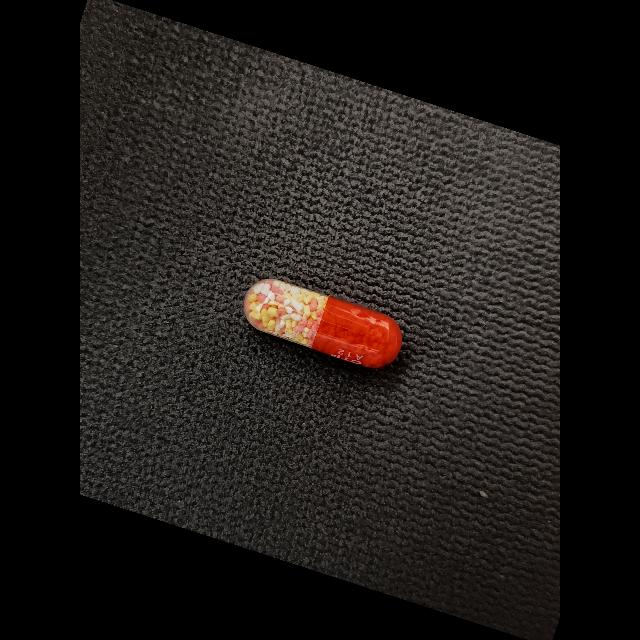Intact Capsule: (243, 279, 402, 368)
